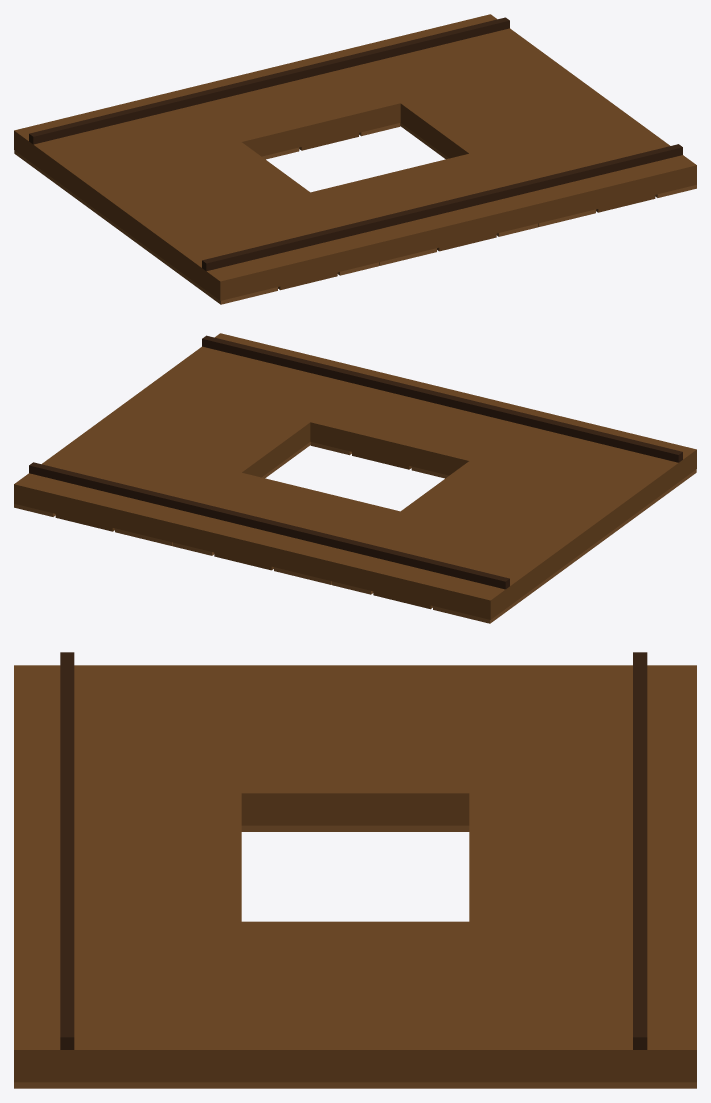
Rendered from WallWindow.obj.
The picture shows the model from 3 angles, top to bottom: view 1: azimuth 30°, elevation 25°; view 2: azimuth 150°, elevation 25°; view 3: azimuth 270°, elevation 25°; orthographic projection. The views are drawn at different scales.
Bounding box in the file's own units: 512 × 32 × 384.
